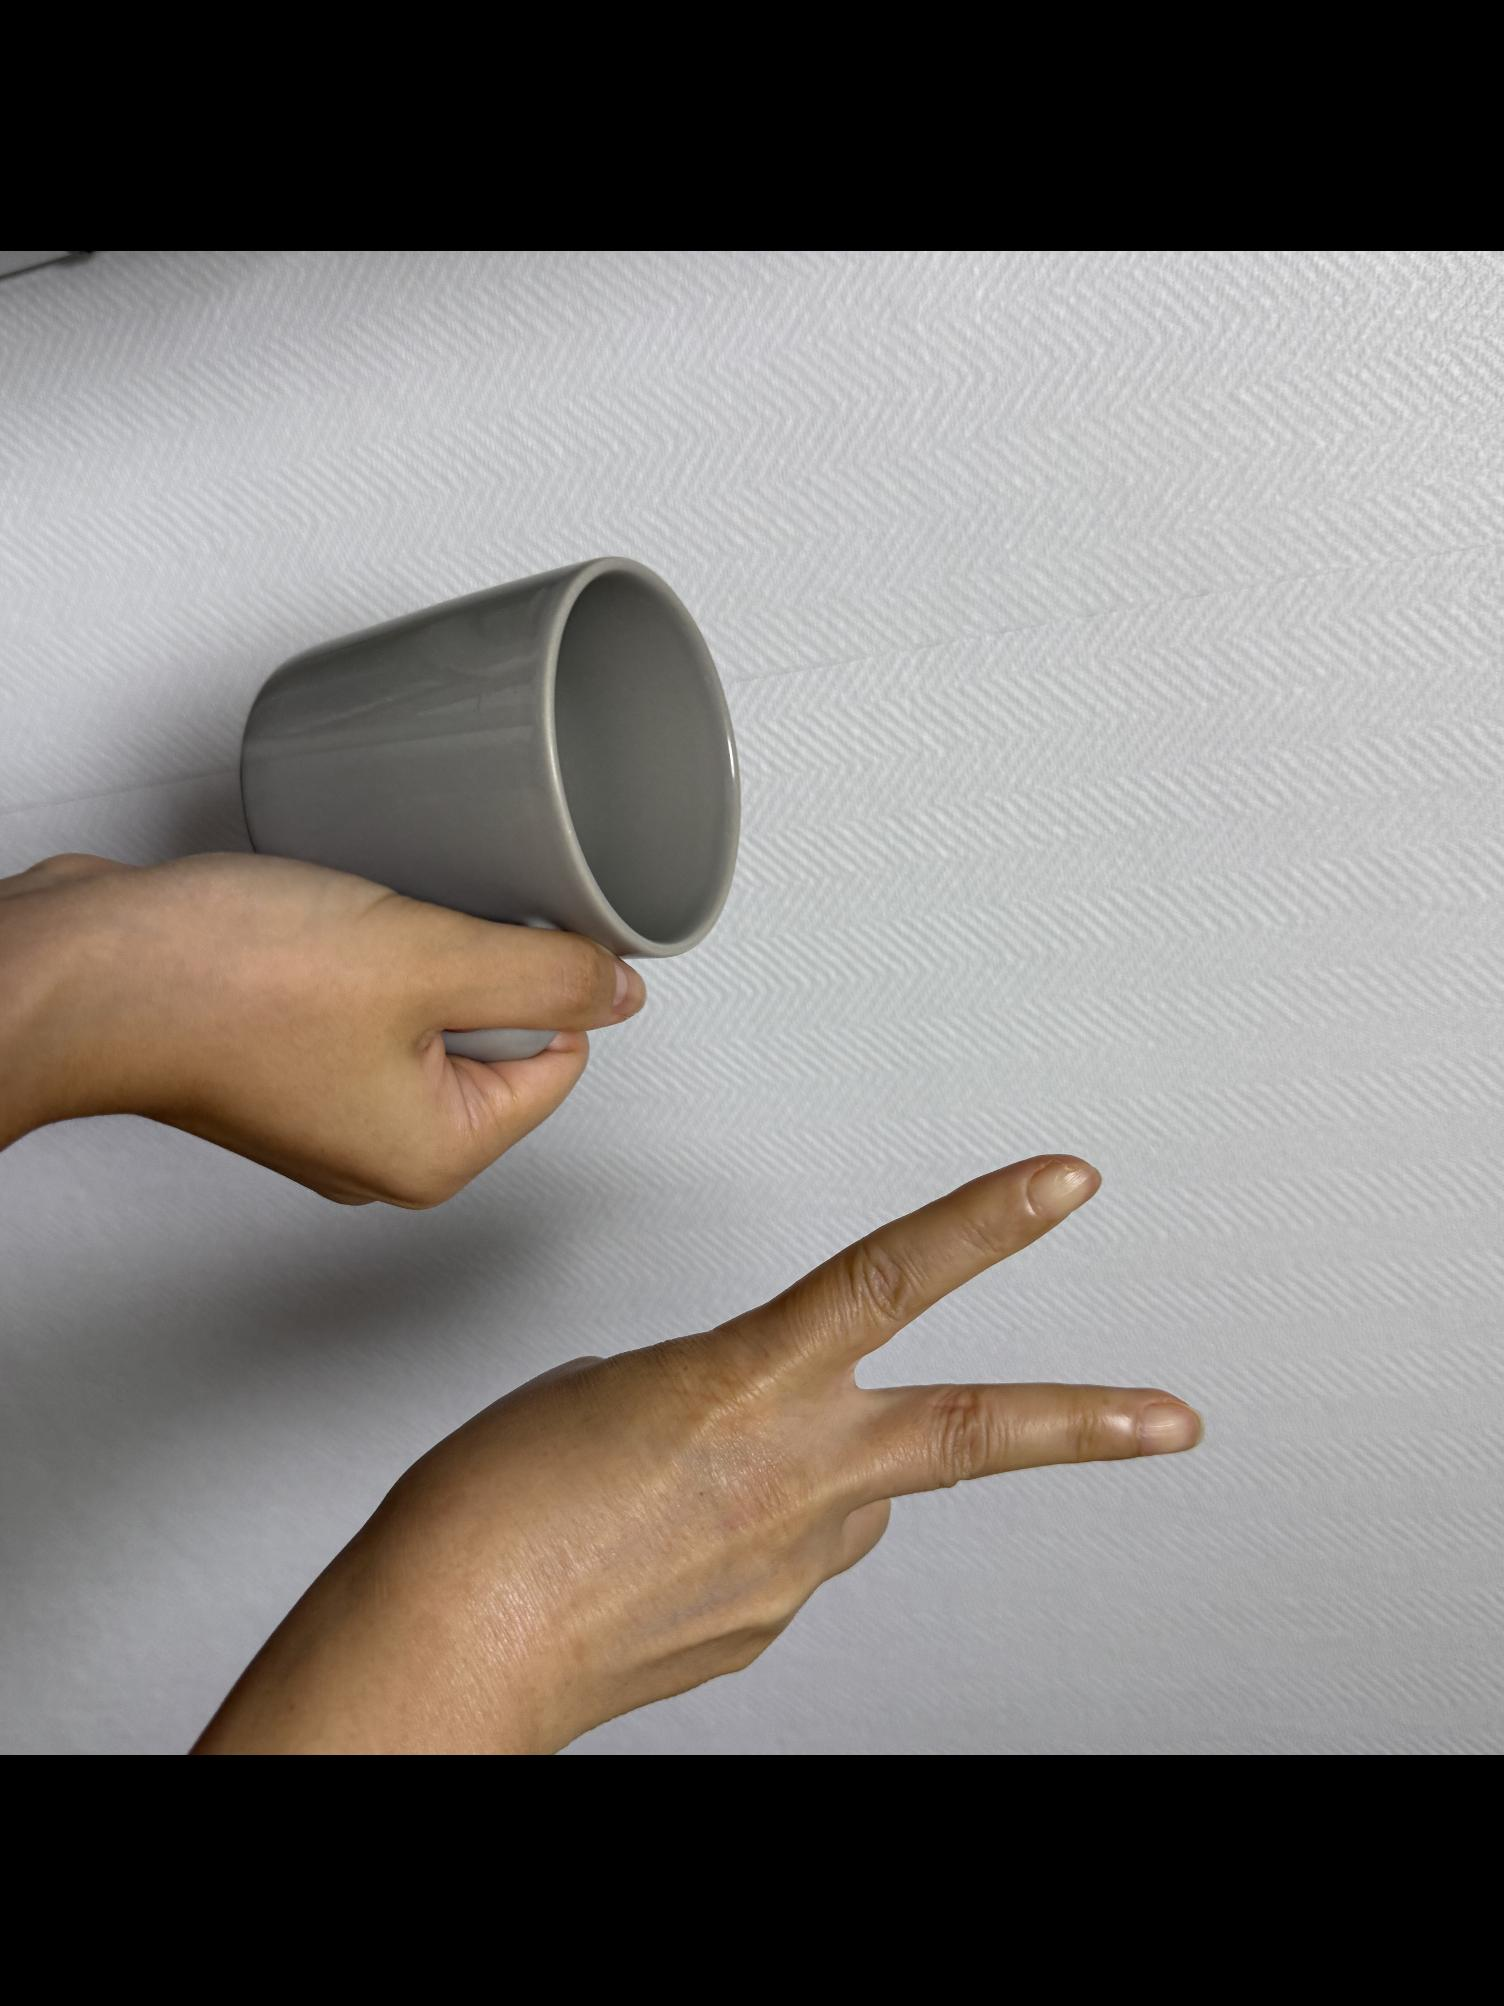cup: (0, 556, 755, 1216)
v: (164, 1148, 1218, 1755)
